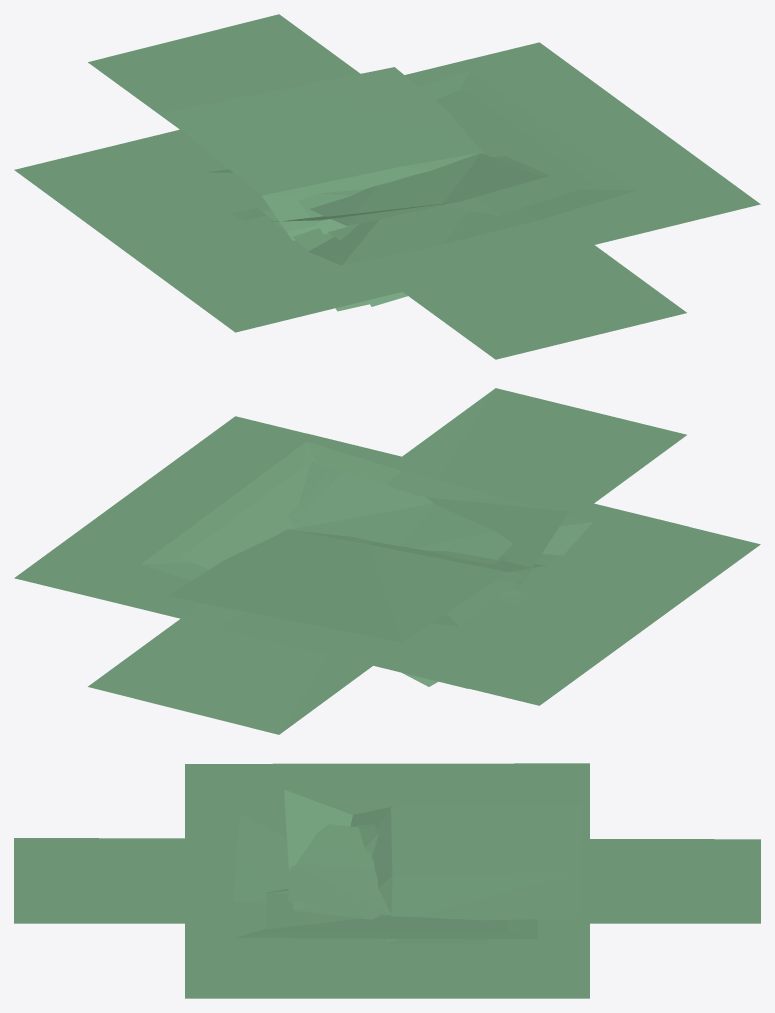
The model's file is ground.obj.
The picture shows the model from 3 angles, top to bottom: view 1: azimuth 30°, elevation 25°; view 2: azimuth 150°, elevation 25°; view 3: azimuth 270°, elevation 25°; orthographic projection. The views are drawn at different scales.
Visible parts, largest first — view 1: Ground.003_Grid.004, Ground.001_Grid.002, Ground.007_Grid.008, Ground.002_Grid.003, Ground.006_Grid.007, Ground.019_Grid.019, Ground.015_Grid.009, Ground.018_Grid.018, Ground.004_Grid.005, Ground.017_Grid.017, Ground.016_Grid.010; view 2: Ground.003_Grid.004, Ground.001_Grid.002, Ground.007_Grid.008, Ground.002_Grid.003, Ground.015_Grid.009, Ground.006_Grid.007, Ground.019_Grid.019, Ground.016_Grid.010, Ground.018_Grid.018, Ground.004_Grid.005; view 3: Ground.001_Grid.002, Ground.003_Grid.004, Ground.007_Grid.008, Ground.002_Grid.003, Ground.006_Grid.007, Ground.015_Grid.009, Ground.019_Grid.019, Ground.016_Grid.010, Ground.004_Grid.005, Ground.017_Grid.017.
Boxes of the visible parts, x1,y1,x2,y2 form: Ground.003_Grid.004: (14,42,760,332); Ground.001_Grid.002: (88,14,686,359); Ground.007_Grid.008: (161,67,483,311); Ground.002_Grid.003: (221,59,689,314); Ground.006_Grid.007: (309,70,635,265); Ground.019_Grid.019: (435,88,595,215); Ground.015_Grid.009: (309,153,539,226); Ground.018_Grid.018: (206,169,333,258); Ground.004_Grid.005: (230,208,318,261); Ground.017_Grid.017: (298,189,407,306); Ground.016_Grid.010: (271,156,549,221); Ground.003_Grid.004: (14,416,760,705); Ground.001_Grid.002: (88,388,686,734); Ground.007_Grid.008: (168,529,546,642); Ground.002_Grid.003: (85,433,689,688); Ground.015_Grid.009: (290,471,512,559); Ground.006_Grid.007: (141,441,593,686); Ground.019_Grid.019: (180,461,342,569); Ground.016_Grid.010: (287,474,569,584); Ground.018_Grid.018: (431,553,559,626); Ground.004_Grid.005: (496,549,586,605); Ground.001_Grid.002: (14,838,760,923); Ground.003_Grid.004: (185,763,589,998); Ground.007_Grid.008: (350,803,581,920); Ground.002_Grid.003: (185,795,589,966); Ground.006_Grid.007: (233,814,537,939); Ground.015_Grid.009: (287,824,390,914); Ground.019_Grid.019: (266,888,507,929); Ground.016_Grid.010: (284,789,379,919); Ground.004_Grid.005: (285,819,487,943); Ground.017_Grid.017: (352,824,378,856).
Bounding box in the file's own units: 50.35 × 7.52 × 67.74.
1 material, 1 textured.
